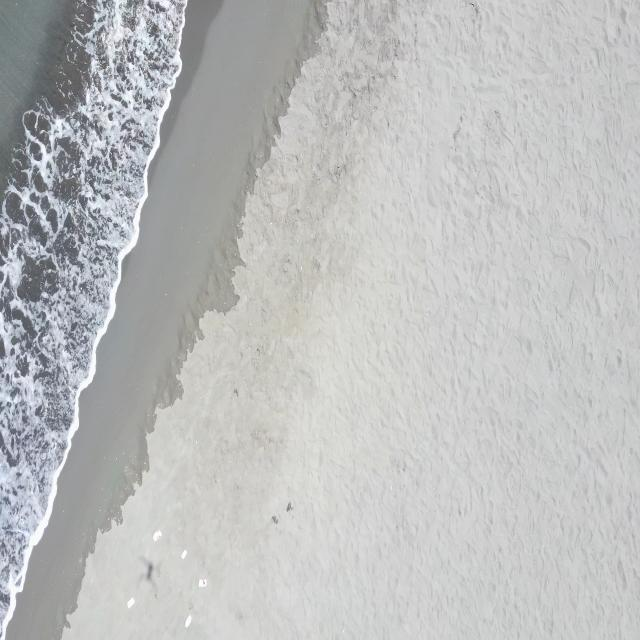retort-pouch: (197, 576, 209, 590), (183, 614, 193, 630), (152, 529, 162, 541), (126, 596, 135, 608), (181, 548, 189, 560)
